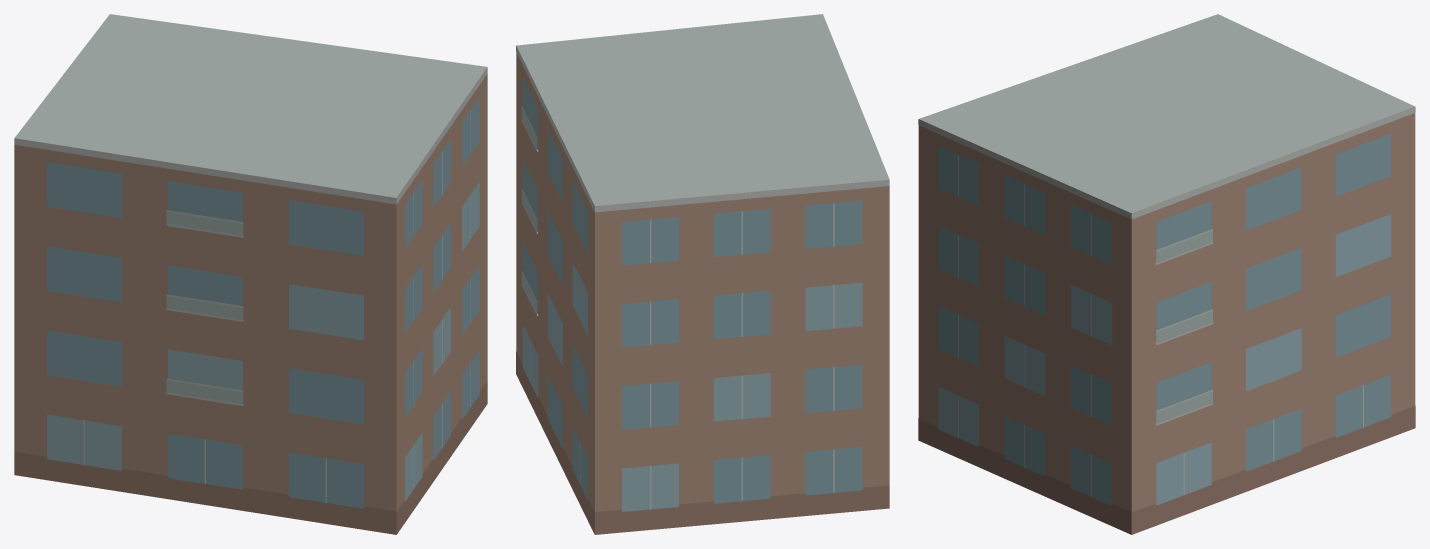
The model's file is survey-upis-32941472.glb.
3 renders of one model, left to right at view 1: azimuth 30°, elevation 25°; view 2: azimuth 150°, elevation 25°; view 3: azimuth 270°, elevation 25°, orthographic. The views are drawn at different scales.
Visible parts, largest first — view 1: survey-upis-32941472.tmp; view 2: survey-upis-32941472.tmp; view 3: survey-upis-32941472.tmp.
Part boxes in pixels (box(x1,y1,x2,y2)): survey-upis-32941472.tmp: box(14, 14, 487, 534); survey-upis-32941472.tmp: box(516, 14, 889, 534); survey-upis-32941472.tmp: box(918, 14, 1415, 534).
Bounding box in the file's own units: 16.89 × 12.7 × 17.79.
